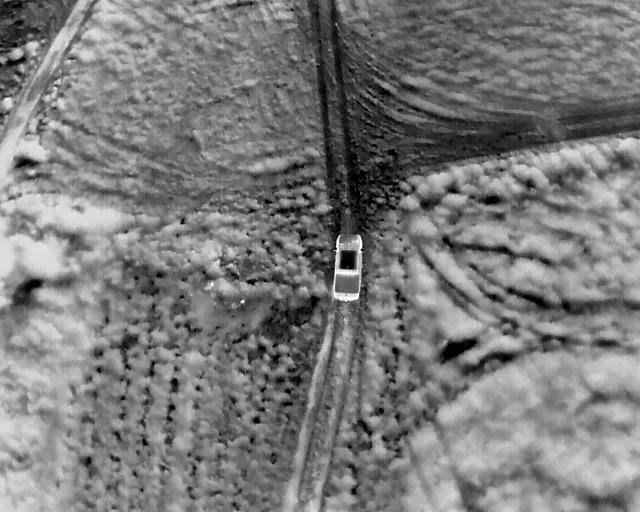car: (332, 232, 365, 300)
